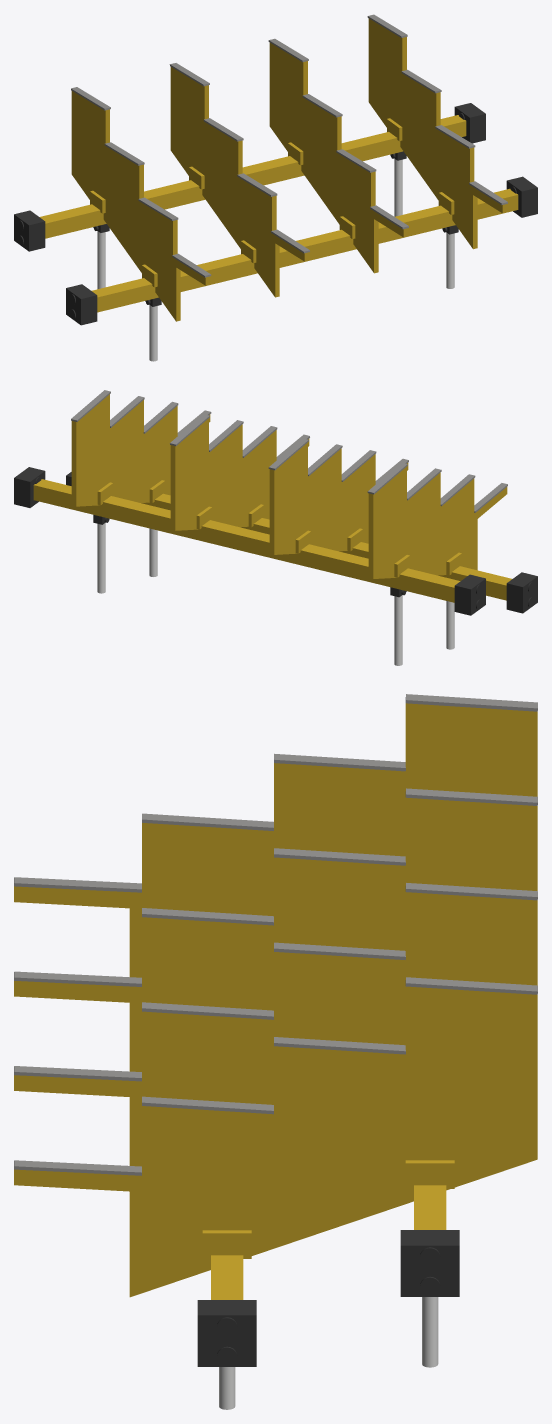
Rendered from log_deck_moving.glb.
3 renders of one model, top to bottom at view 1: azimuth 30°, elevation 25°; view 2: azimuth 150°, elevation 25°; view 3: azimuth 270°, elevation 25°, orthographic. The views are drawn at different scales.
Parts seen in each view (by area): view 1: LD_MovingMesh; view 2: LD_MovingMesh; view 3: LD_MovingMesh.
Part boxes in pixels (x1,y1,x2,y2): LD_MovingMesh: (14,14,537,361); LD_MovingMesh: (14,390,537,665); LD_MovingMesh: (14,694,537,1409).
Bounding box in the file's own units: 5.1 × 2.32 × 2.58.
